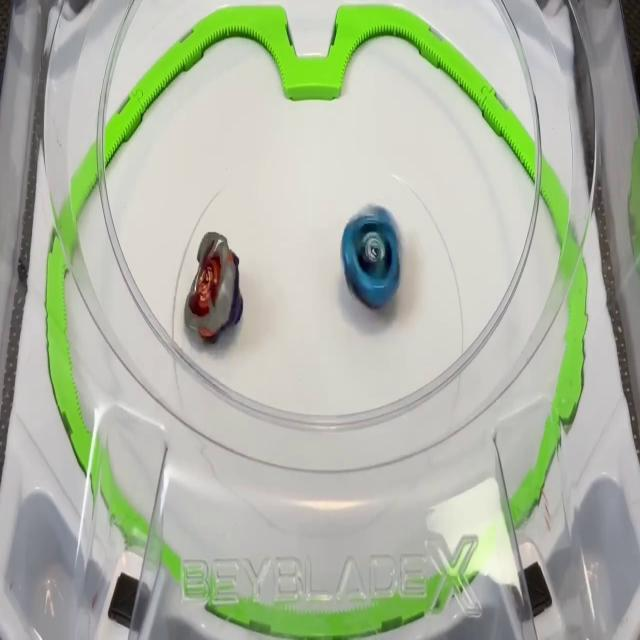Beyblade: (183, 232, 242, 344), (340, 206, 401, 312)
